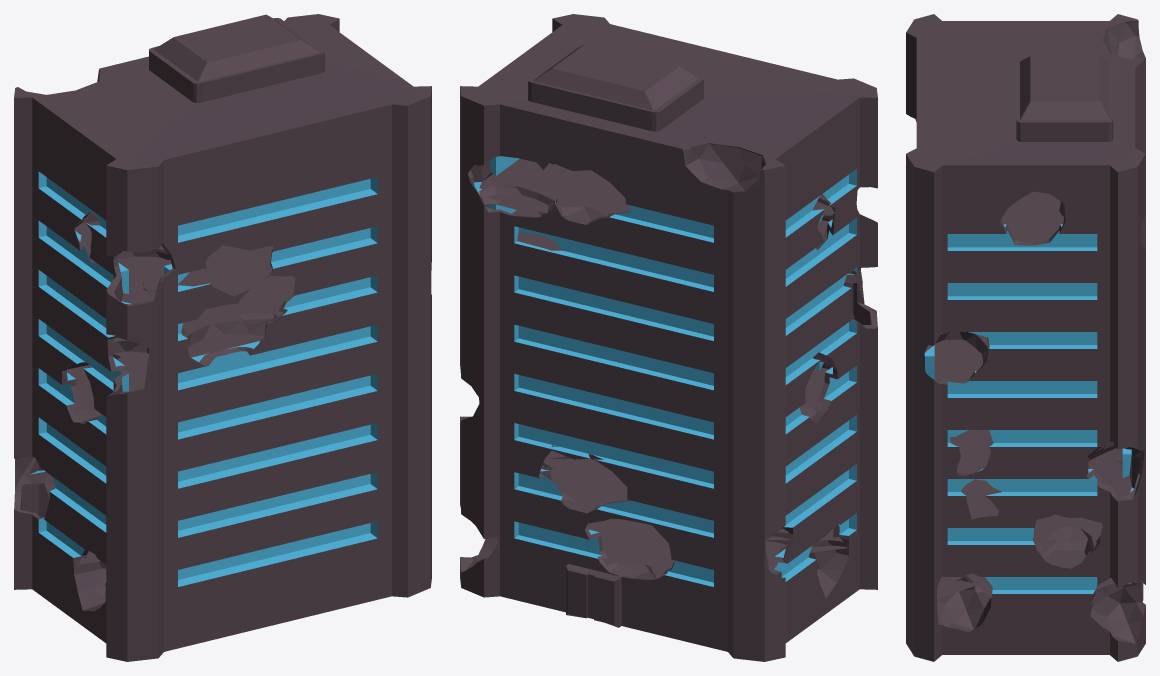
Rendered from buildings5.fbx.
3 renders of one model, left to right at view 1: azimuth 30°, elevation 25°; view 2: azimuth 150°, elevation 25°; view 3: azimuth 270°, elevation 25°, orthographic.
Parts seen in each view (by area): view 1: 3.001; view 2: 3.001; view 3: 3.001.
Part boxes in pixels (x1=…): 3.001: x1=14, y1=14, x2=431, y2=661; 3.001: x1=460, y1=14, x2=877, y2=661; 3.001: x1=906, y1=14, x2=1145, y2=661.
Bounding box in the file's own units: 2941 × 4511 × 1884.
